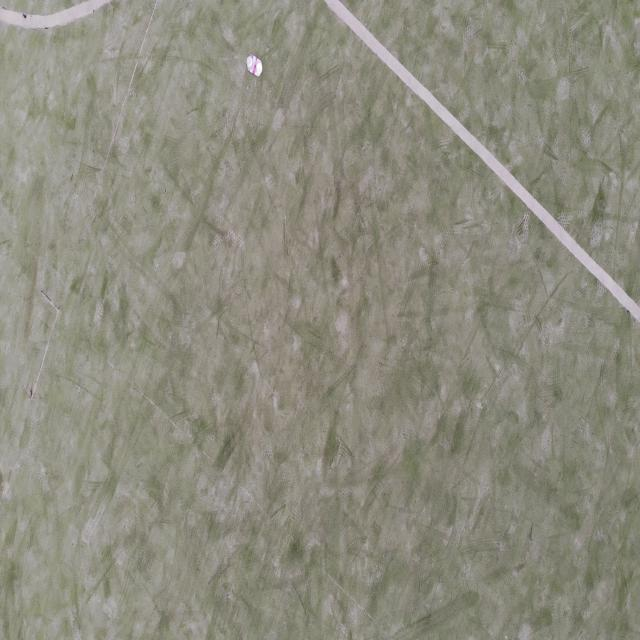rubbish: (245, 52, 263, 76)
